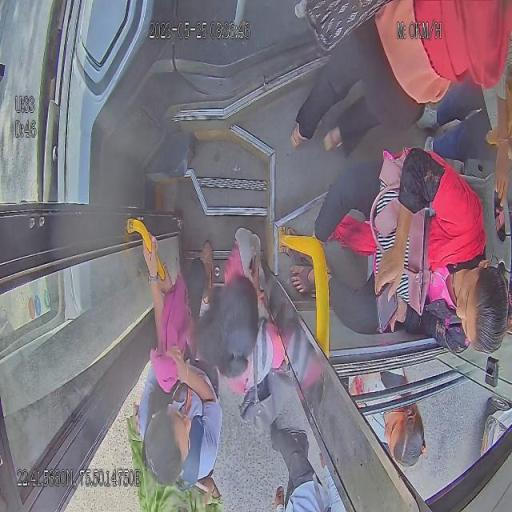persona: (278, 146, 509, 356), (290, 0, 512, 162), (133, 230, 224, 502), (217, 227, 289, 407), (348, 368, 426, 468), (266, 422, 342, 512)
